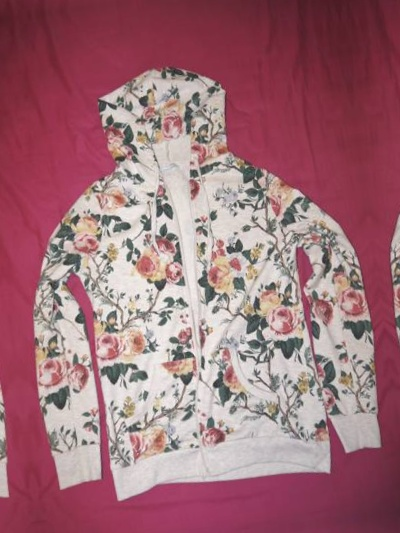Hoodie: (0, 31, 387, 515), (360, 0, 400, 462), (0, 83, 24, 533)
